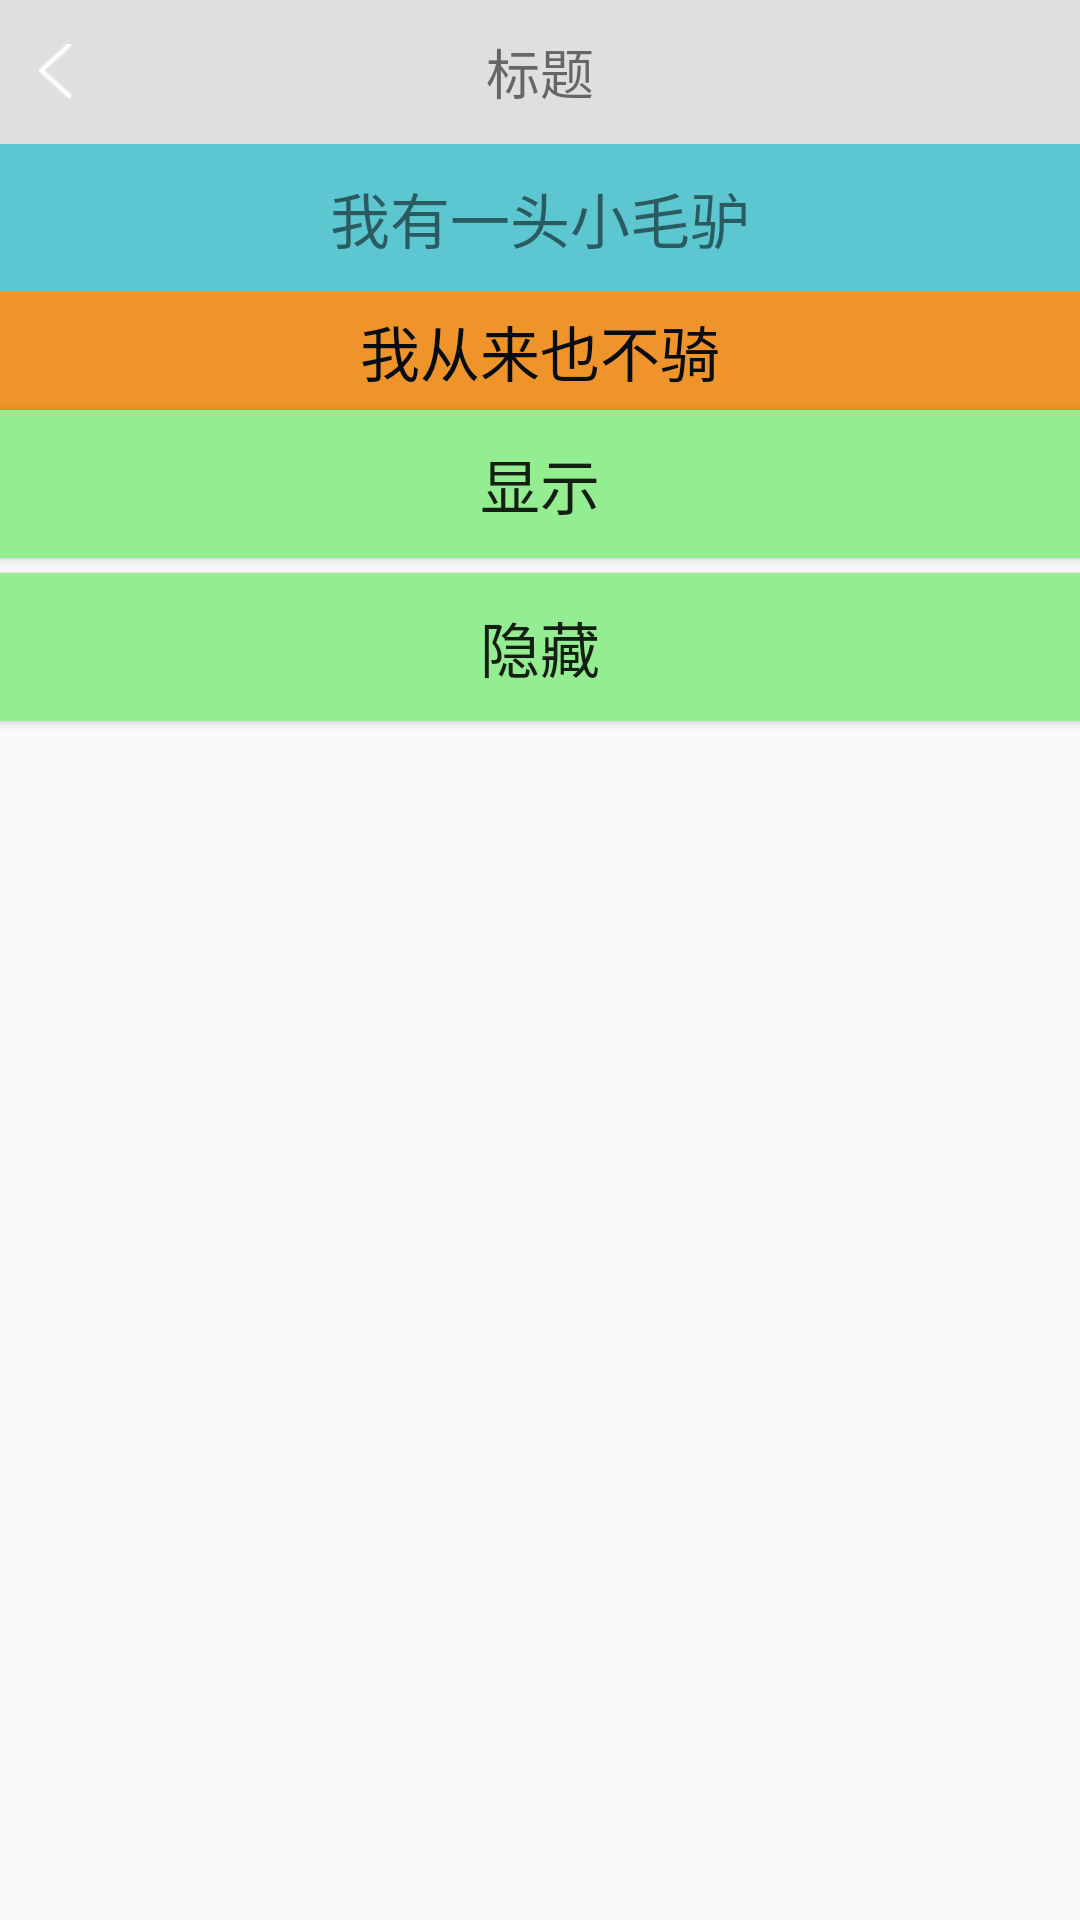

Icons on this 1080×1920 Android screen, each with its box as (x1, y1, x2, y2):
fanhui: (39, 44, 71, 97)
